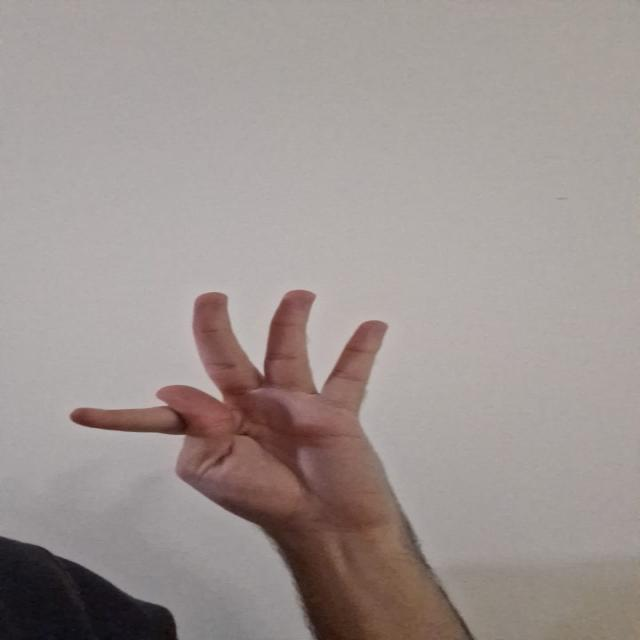T: (62, 286, 394, 512)
